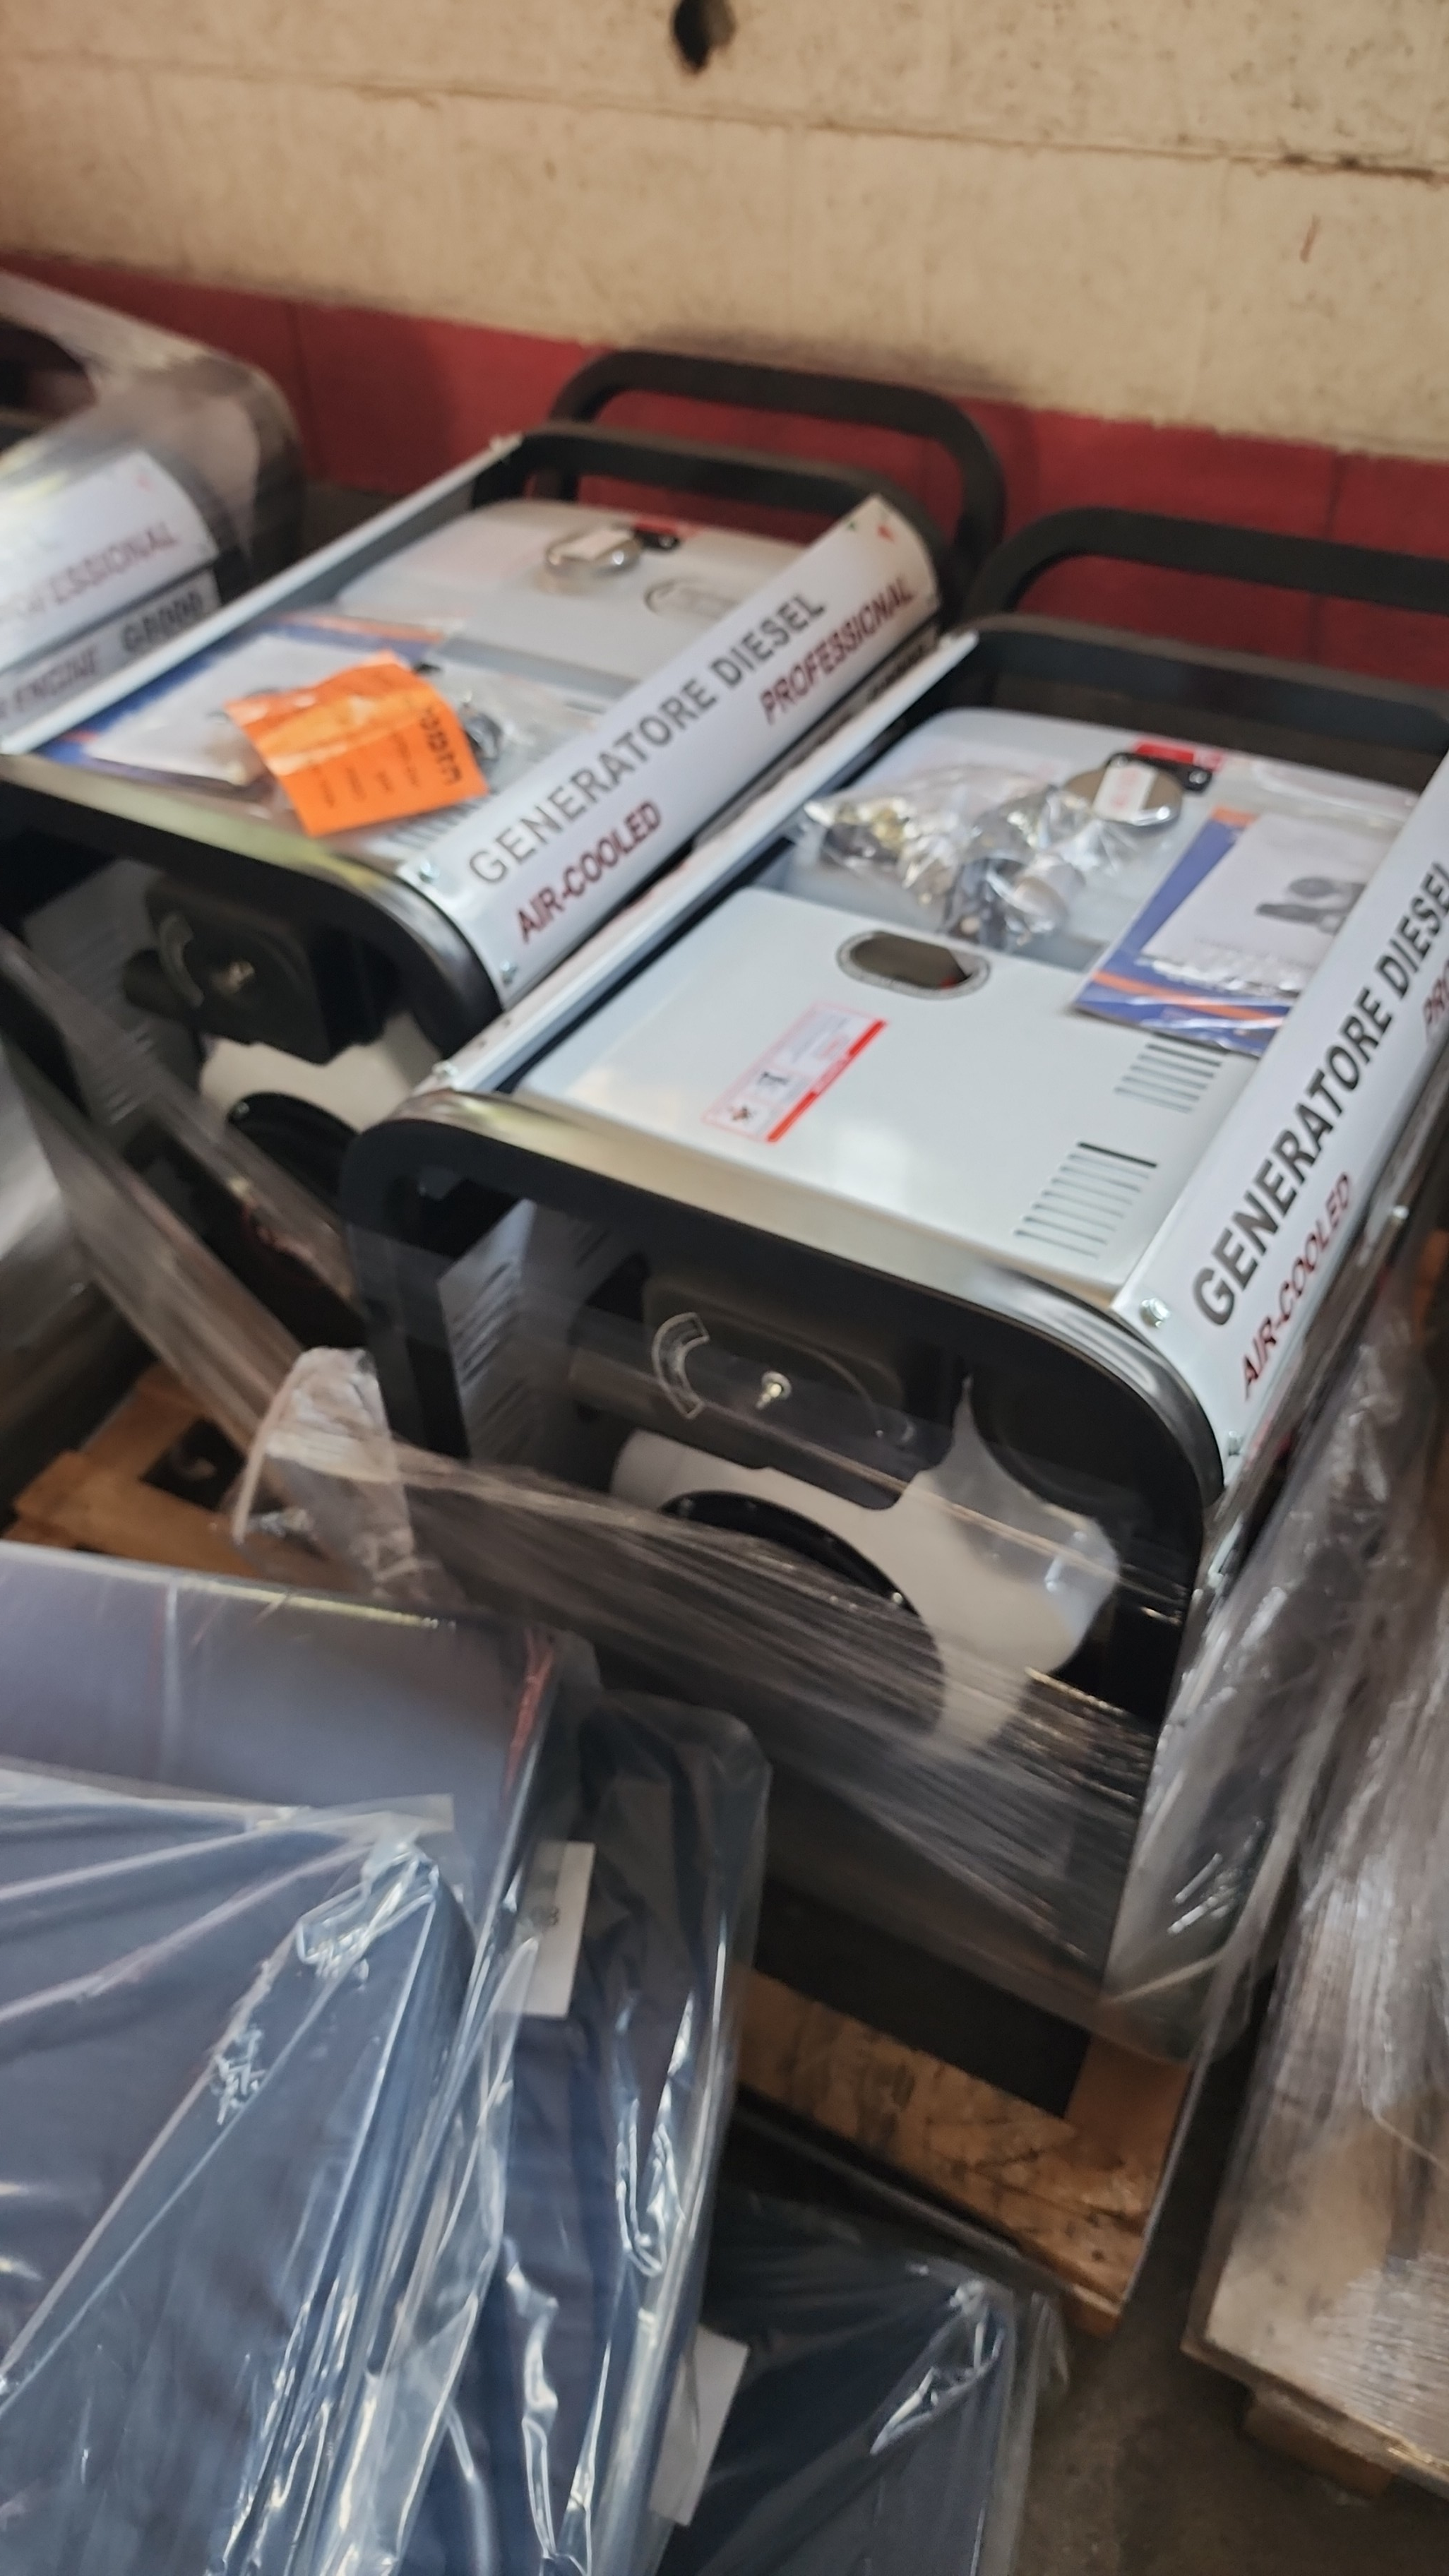other: (380, 508, 1384, 1964)
